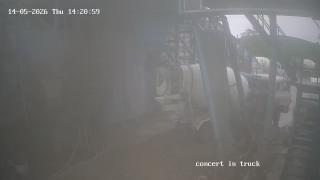cement_mixer_truck: (157, 61, 290, 140)
